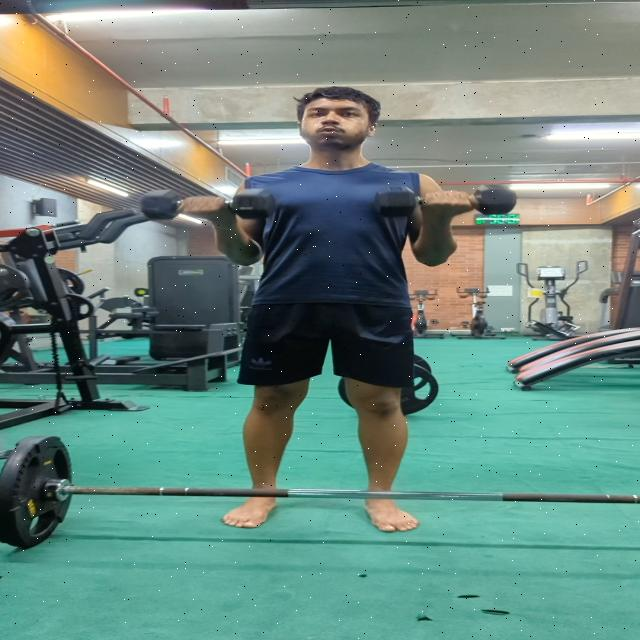Normal_DumbbellBicepCurls: (130, 82, 530, 536)
